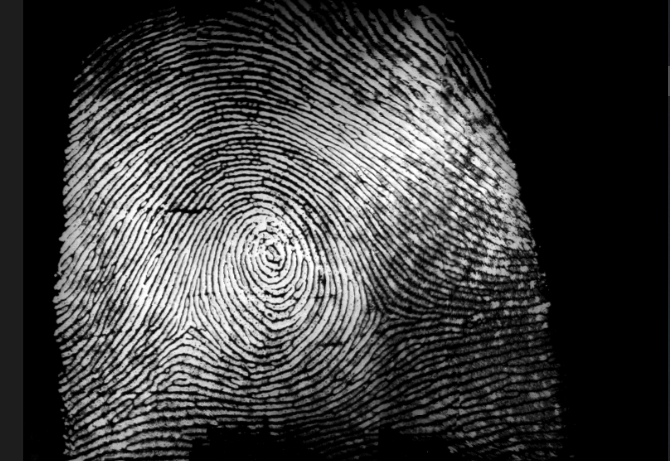nucelo: (256, 237, 286, 273)
verticilo: (364, 296, 399, 325), (176, 308, 205, 339)
